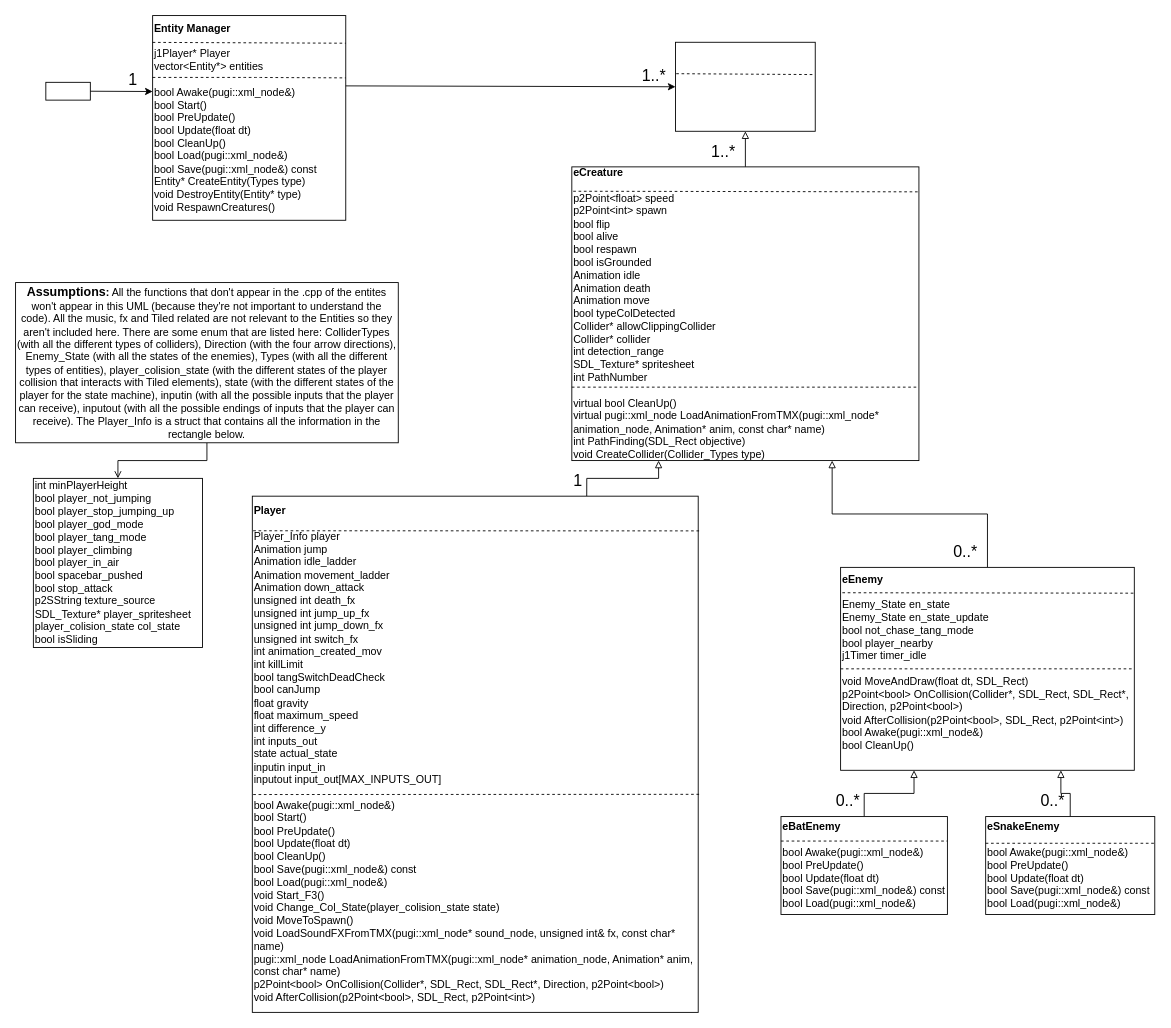
The diagram is 1171 pixels wide and 1028 high, and some of its shapes have lost their labels. The shapes that lost their labels are listed below. From the top down, each one's centre as x and y in pixels, then its label:
At point 67,90: "Game".
At point 745,86: "Entity SDL_Rect position Types type pugi::xml_node entity node".
